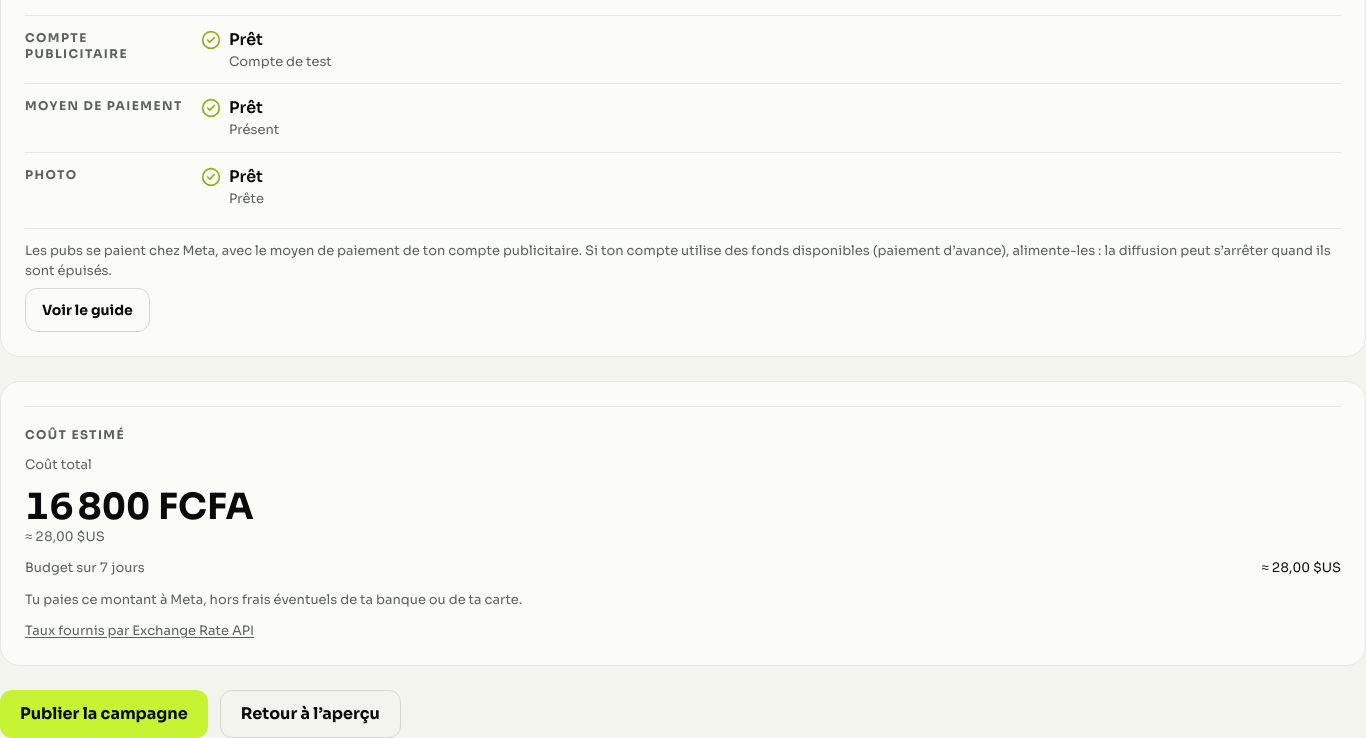
Test case: Étape Publier — chaque erreur (APPFLOW §8.6) › provider_unavailable SANS la raison de l’interrupteur : message général (pas de faux diagnostic)
This screenshot has width=1366, height=738.
(page scrolled)
Step 1. Click the button "Publier la campagne" → (104,714), box [0,690,208,737]
(page scrolled)
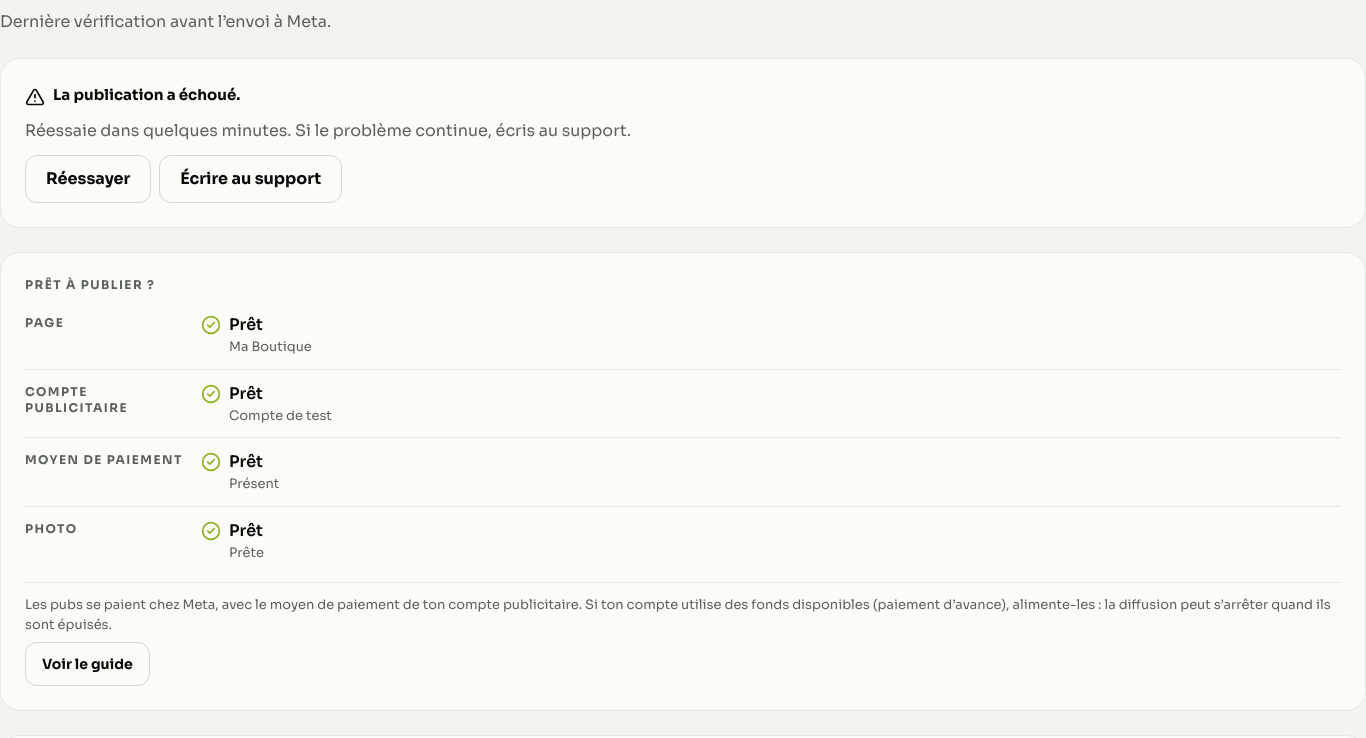
Result: the heading "La publication a échoué." is shown at [25,85,240,107]
